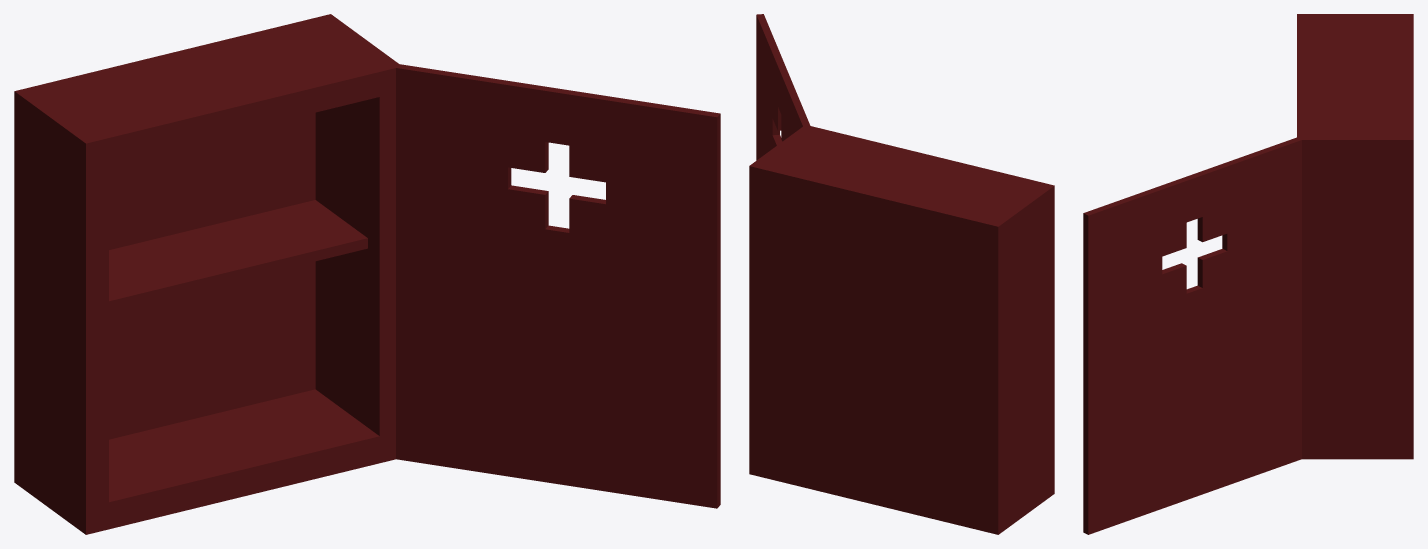
File: medicine cabinet.fbx
The picture shows the model from 3 angles, left to right: view 1: azimuth 30°, elevation 25°; view 2: azimuth 150°, elevation 25°; view 3: azimuth 270°, elevation 25°; orthographic projection. The views are drawn at different scales.
Parts seen in each view (by area): view 1: Cube.043; view 2: Cube.043; view 3: Cube.043.
Part boxes in pixels (x1,y1,x2,y2): Cube.043: (14, 14, 720, 534); Cube.043: (749, 14, 1054, 534); Cube.043: (1083, 14, 1413, 534).
Bounding box in the file's own units: 1179 × 870 × 816.
